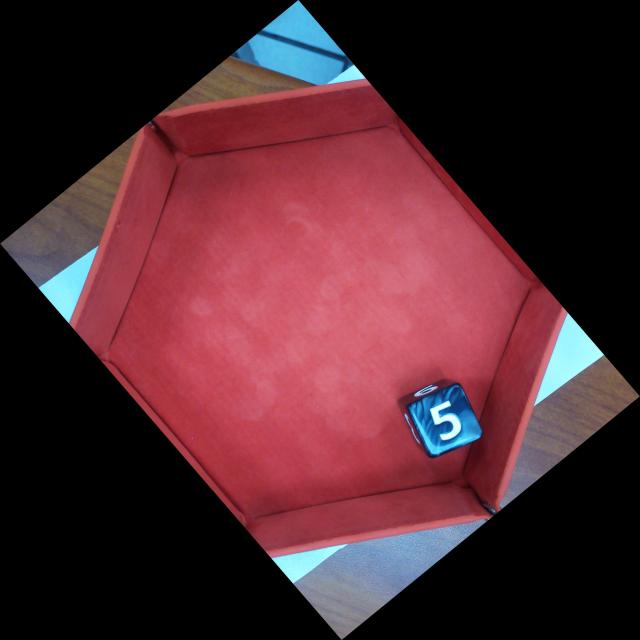dice: (403, 381, 487, 461)
